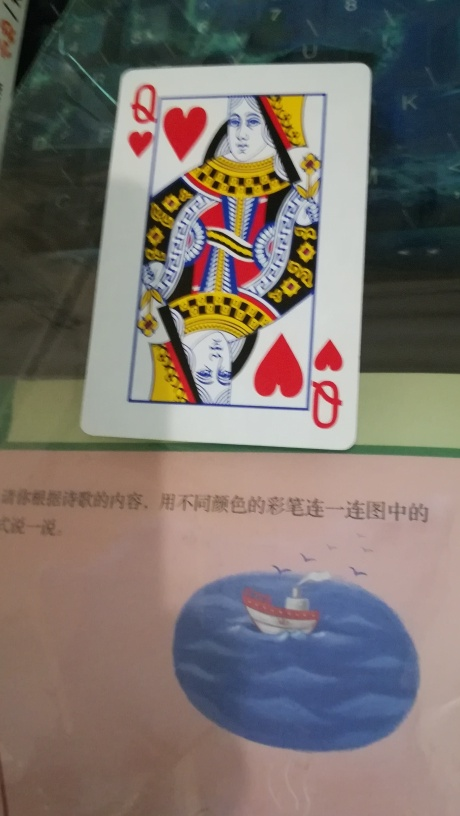hx q: (86, 60, 378, 458)
